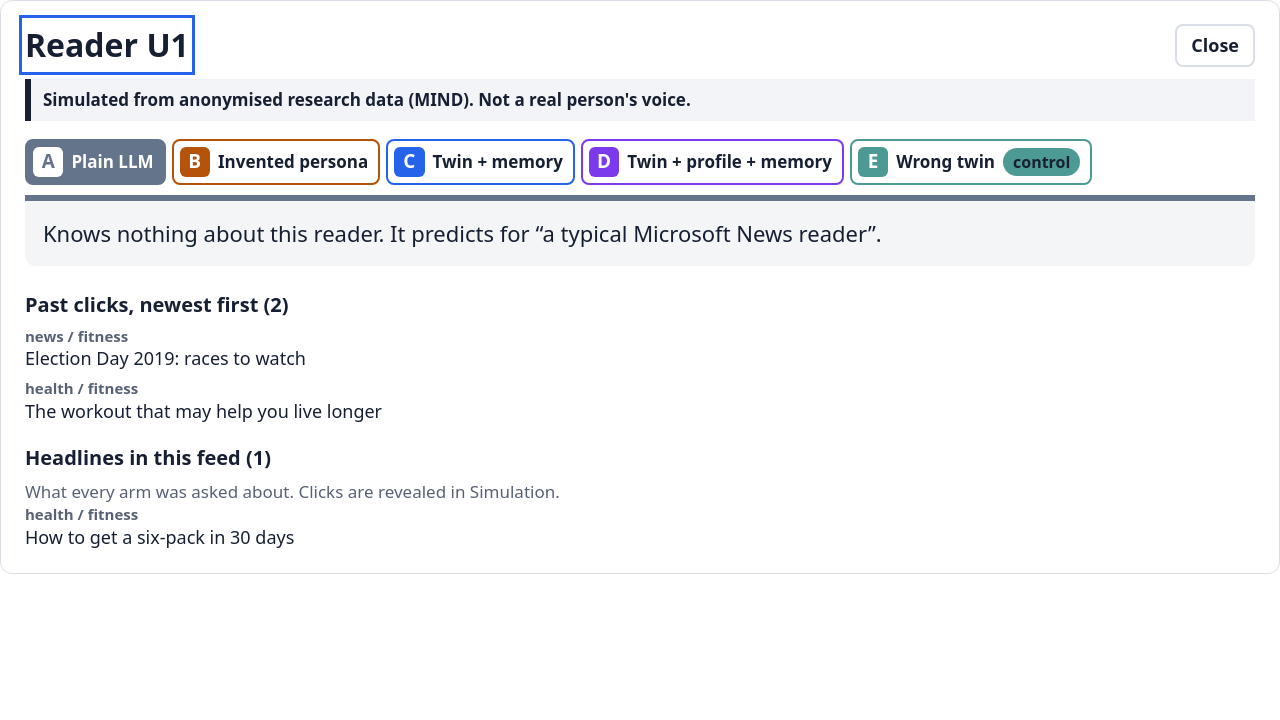
Test: AgentPanel › labels the invented persona as made up
Click the tab "B Invented persona".
click(276, 162)  # box x1=172 y1=138 x2=380 y2=185
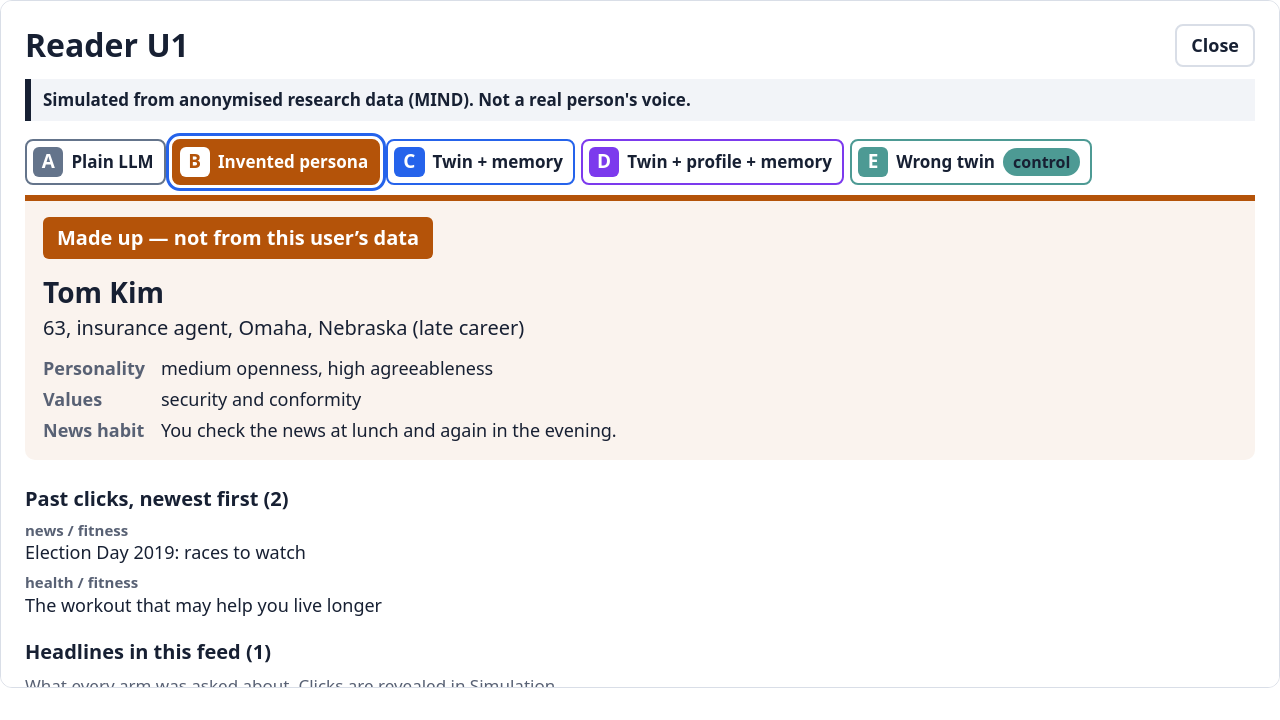
Expected: the text "Made up — not from this user’s data" is shown, x1=43 y1=217 x2=433 y2=259
Expected: the panel shows "Tom Kim", x1=43 y1=273 x2=164 y2=311
Expected: the panel shows "insurance agent", x1=76 y1=314 x2=228 y2=341
